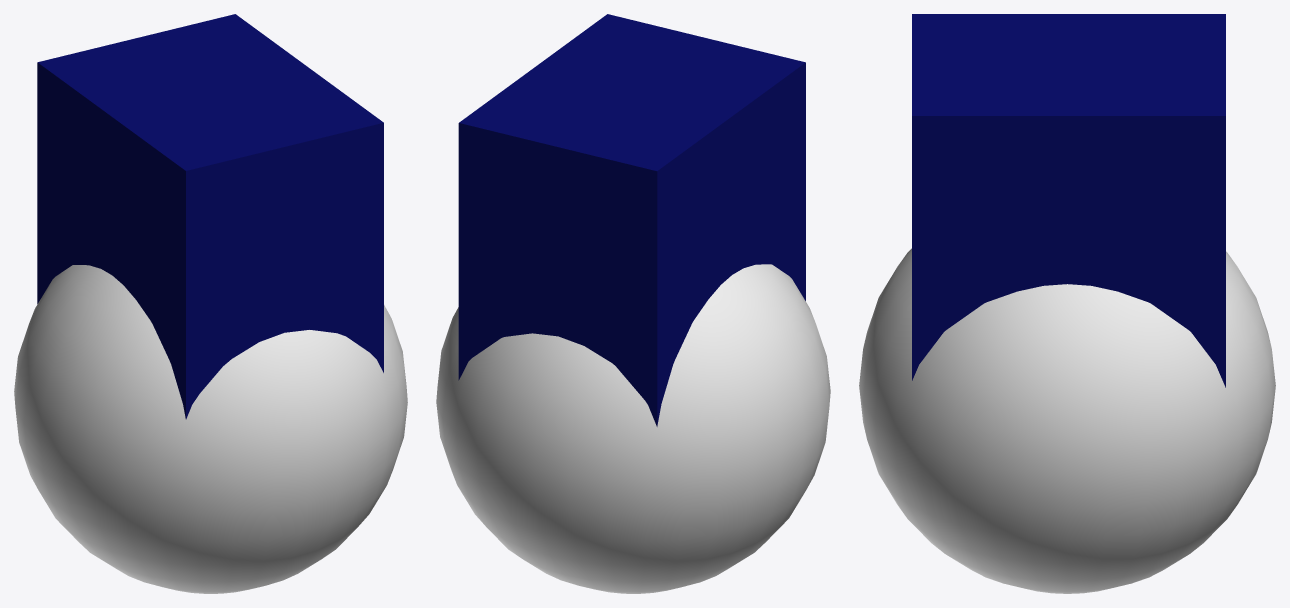
Rendered from log.FBX.
3 views of the same model, side by side, from view 1: azimuth 30°, elevation 25°; view 2: azimuth 150°, elevation 25°; view 3: azimuth 270°, elevation 25° (orthographic). The views are drawn at different scales.
Visible parts, largest first — view 1: Box001, BoundingSphere; view 2: Box001, BoundingSphere; view 3: BoundingSphere, Box001.
Boxes of the visible parts, x1,y1,x2,y2 form: Box001: (37, 14, 383, 419); BoundingSphere: (14, 265, 407, 593); Box001: (458, 14, 805, 426); BoundingSphere: (436, 264, 830, 593); BoundingSphere: (859, 248, 1275, 593); Box001: (912, 14, 1225, 387).
Size of the model in its own units: 63.53 by 85.75 by 63.53.
